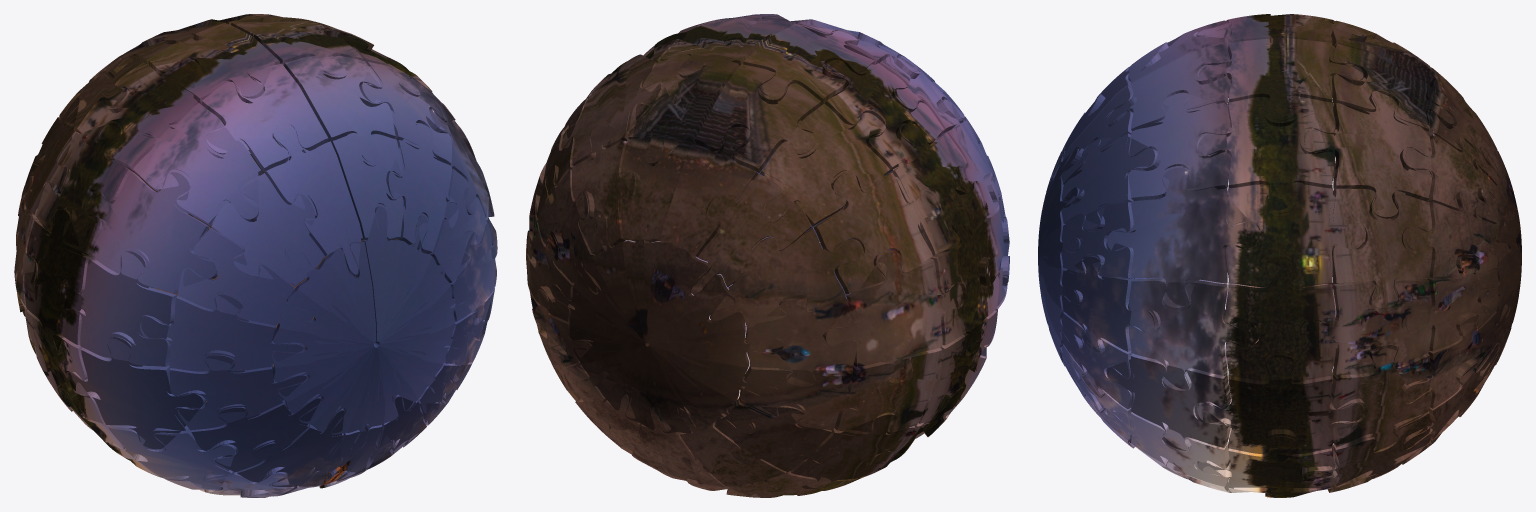
File: medium-puzzle-v7.fbx
3 views of the same model, side by side, from view 1: azimuth 30°, elevation 25°; view 2: azimuth 150°, elevation 25°; view 3: azimuth 270°, elevation 25° (orthographic).
Visible parts, largest first — view 1: Puzzle-Medium.002, Puzzle-Medium.016, Puzzle-Medium.006, Puzzle-Medium.019, Puzzle-Medium.005, Puzzle-Medium.026, Puzzle-Medium.004, Puzzle-Medium.018, Puzzle-Medium.008, Puzzle-Medium.001, Puzzle-Medium.015, Puzzle-Medium.020 (+26 smaller); view 2: Puzzle-Medium.003, Puzzle-Medium.021, Puzzle-Medium.014, Puzzle-Medium.010, Puzzle-Medium.009, Puzzle-Medium.013, Puzzle-Medium.012, Puzzle-Medium.015, Puzzle-Medium.008, Puzzle-Medium.022, Puzzle-Medium.011, Puzzle-Medium.076 (+26 smaller); view 3: Puzzle-Medium.064, Puzzle-Medium.060, Puzzle-Medium.065, Puzzle-Medium.070, Puzzle-Medium.055, Puzzle-Medium.061, Puzzle-Medium.069, Puzzle-Medium.066, Puzzle-Medium.059, Puzzle-Medium.071, Puzzle-Medium.075, Puzzle-Medium.054 (+26 smaller).
Boxes of the visible parts, bbox=[...] form: Puzzle-Medium.002: bbox=[271, 206, 471, 450]; Puzzle-Medium.016: bbox=[84, 172, 217, 294]; Puzzle-Medium.006: bbox=[133, 103, 262, 225]; Puzzle-Medium.019: bbox=[60, 251, 176, 366]; Puzzle-Medium.005: bbox=[201, 63, 328, 172]; Puzzle-Medium.026: bbox=[68, 337, 206, 449]; Puzzle-Medium.004: bbox=[211, 173, 324, 286]; Puzzle-Medium.018: bbox=[140, 294, 304, 371]; Puzzle-Medium.008: bbox=[79, 59, 198, 170]; Puzzle-Medium.001: bbox=[265, 126, 362, 276]; Puzzle-Medium.015: bbox=[36, 123, 133, 254]; Puzzle-Medium.020: bbox=[24, 208, 92, 355]; Puzzle-Medium.003: bbox=[553, 207, 779, 433]; Puzzle-Medium.021: bbox=[822, 250, 962, 383]; Puzzle-Medium.014: bbox=[813, 172, 938, 294]; Puzzle-Medium.010: bbox=[760, 103, 889, 226]; Puzzle-Medium.009: bbox=[695, 64, 821, 172]; Puzzle-Medium.013: bbox=[710, 228, 860, 325]; Puzzle-Medium.012: bbox=[691, 174, 811, 294]; Puzzle-Medium.015: bbox=[889, 123, 987, 255]; Puzzle-Medium.008: bbox=[824, 59, 943, 171]; Puzzle-Medium.022: bbox=[745, 294, 856, 386]; Puzzle-Medium.011: bbox=[660, 127, 757, 266]; Puzzle-Medium.076: bbox=[628, 56, 739, 166]; Puzzle-Medium.064: bbox=[1107, 167, 1258, 307]; Puzzle-Medium.060: bbox=[1225, 255, 1335, 380]; Puzzle-Medium.065: bbox=[1225, 184, 1363, 286]; Puzzle-Medium.070: bbox=[1197, 97, 1335, 213]; Puzzle-Medium.055: bbox=[1197, 355, 1363, 454]; Puzzle-Medium.061: bbox=[1129, 278, 1258, 390]; Puzzle-Medium.069: bbox=[1304, 93, 1431, 218]; Puzzle-Medium.066: bbox=[1332, 189, 1432, 307]; Puzzle-Medium.059: bbox=[1303, 278, 1431, 375]; Puzzle-Medium.071: bbox=[1128, 92, 1230, 201]; Puzzle-Medium.075: bbox=[1197, 37, 1363, 120]; Puzzle-Medium.054: bbox=[1107, 353, 1230, 450].
Size of the model in its own units: 64.61 by 64.71 by 64.71.
